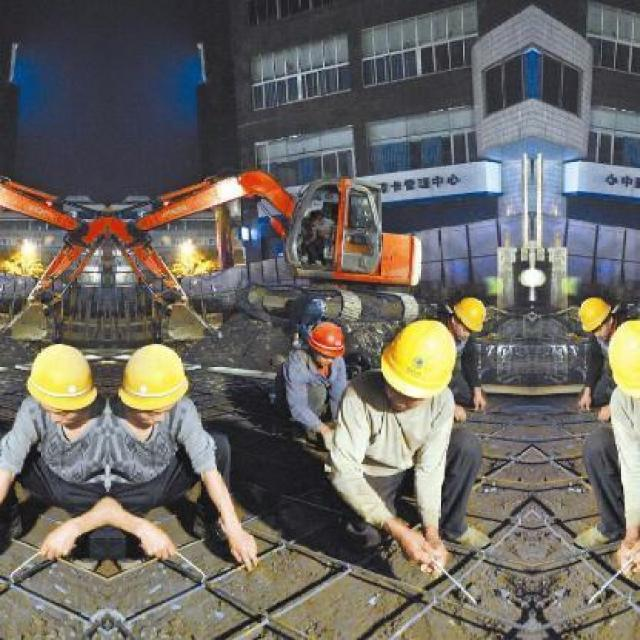hat: (368, 316, 456, 400), (114, 344, 204, 421), (298, 314, 348, 368), (442, 286, 489, 334)
